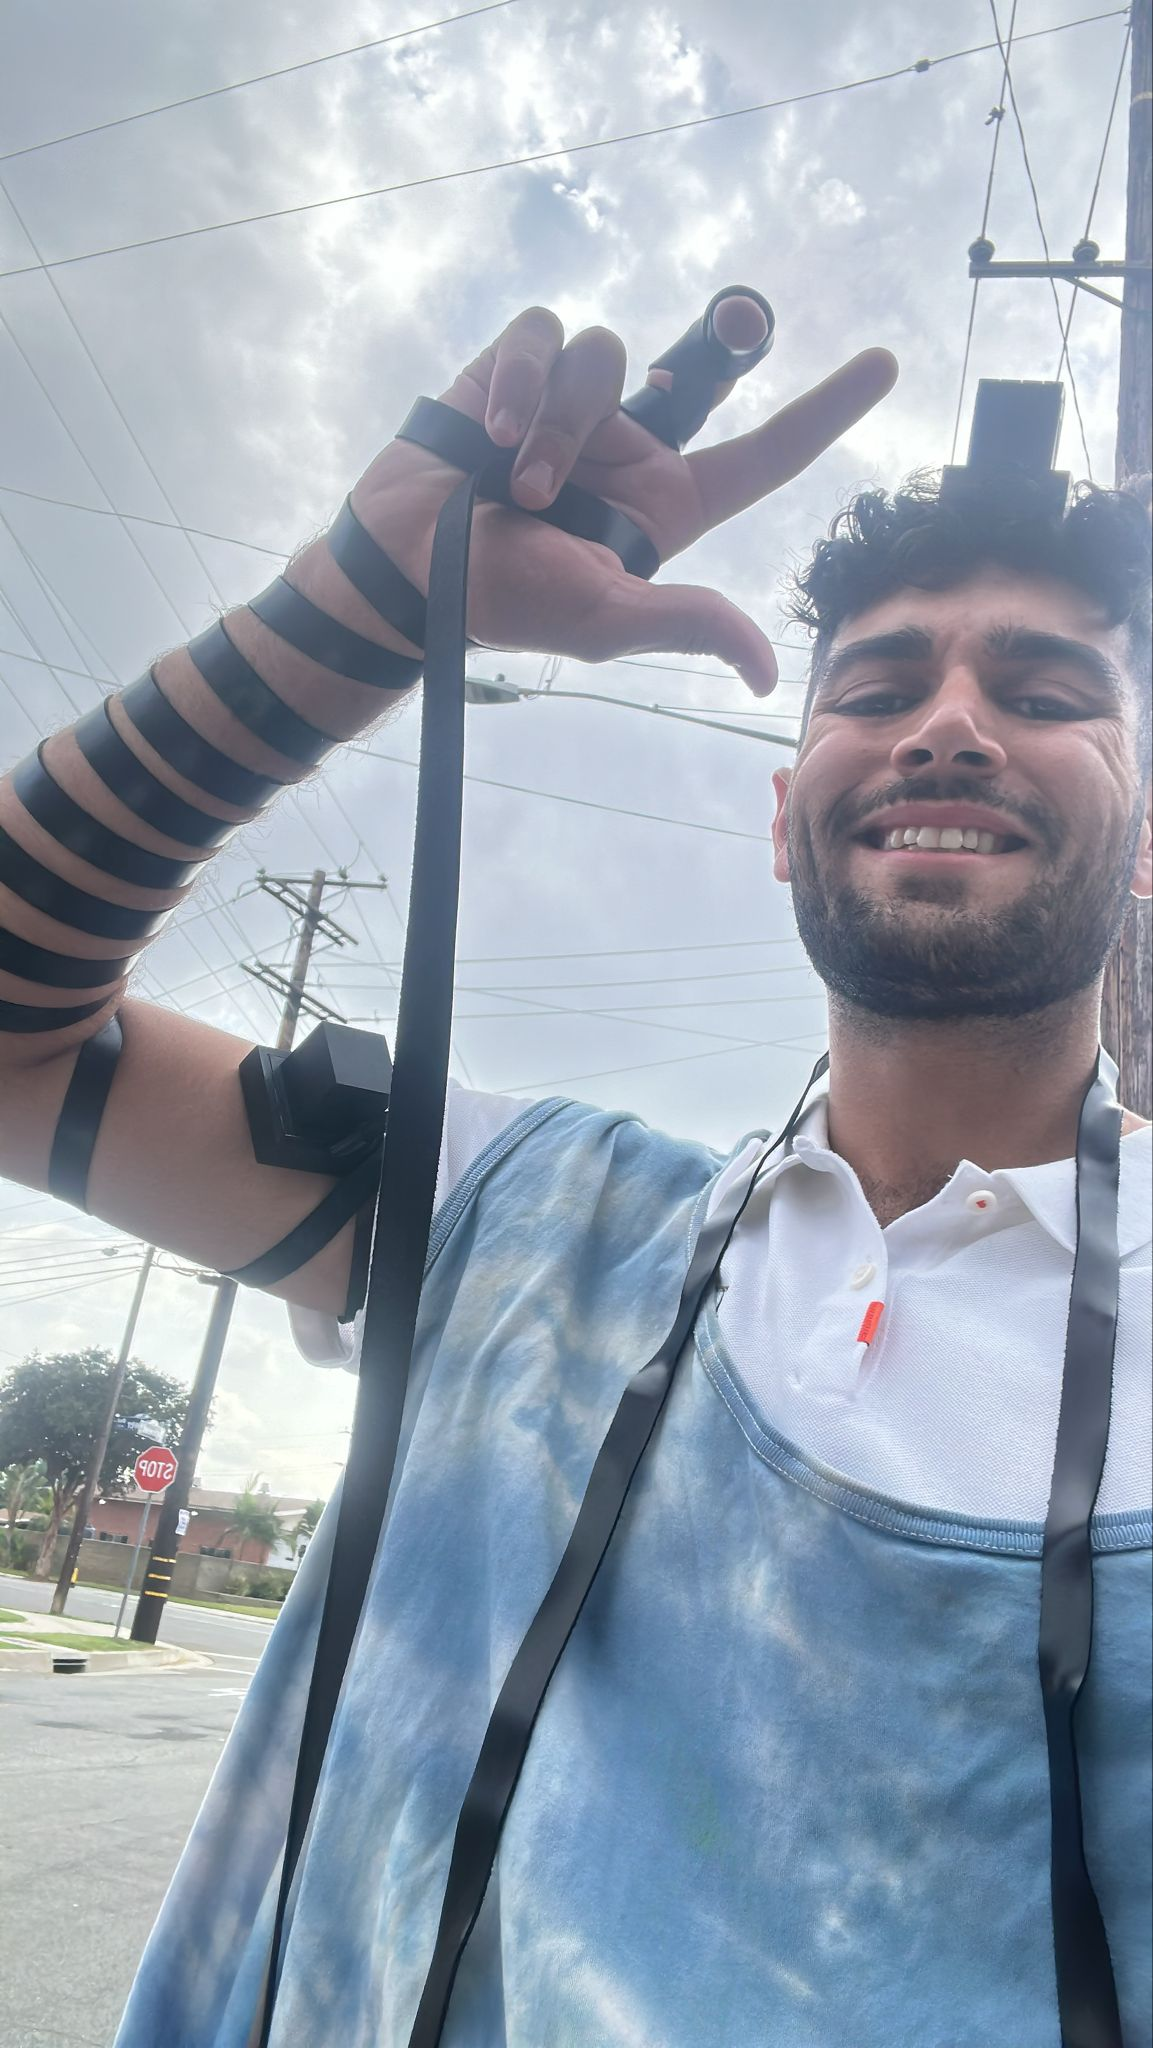tefillin: (235, 1024, 397, 1172), (932, 377, 1073, 529)
